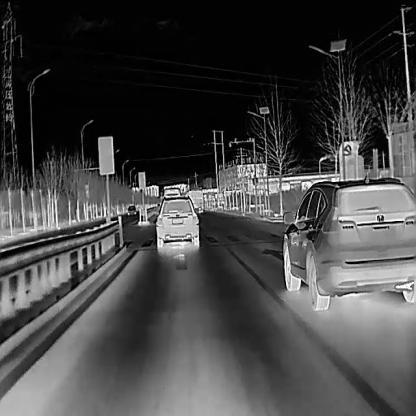car: (282, 171, 415, 310), (156, 194, 199, 248), (185, 190, 202, 212), (126, 204, 136, 214)
